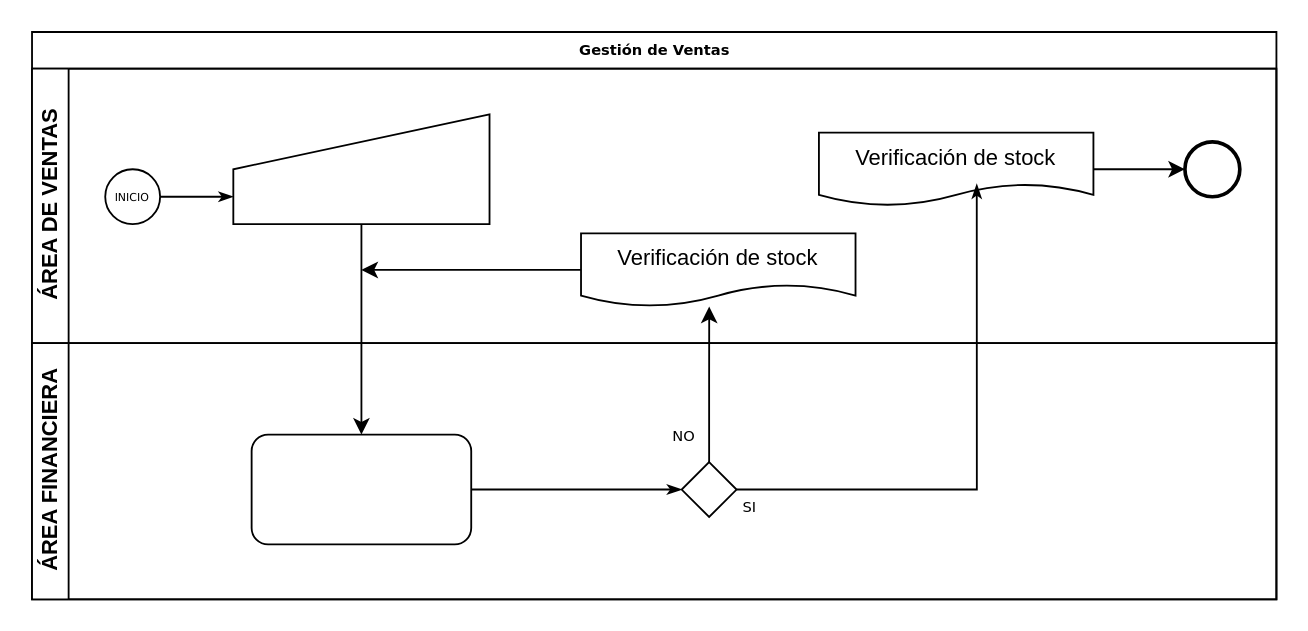
Some shapes in this 1308 by 631 pixel diagram are drawn without their labels. The centre of each missing label's shape, as x and y in pixels:
"FIN" belongs at (x=1211, y=168).
"Mantener control de existencia de producto" belongs at (x=360, y=488).
"Recepción de mercancia" belongs at (x=360, y=168).
